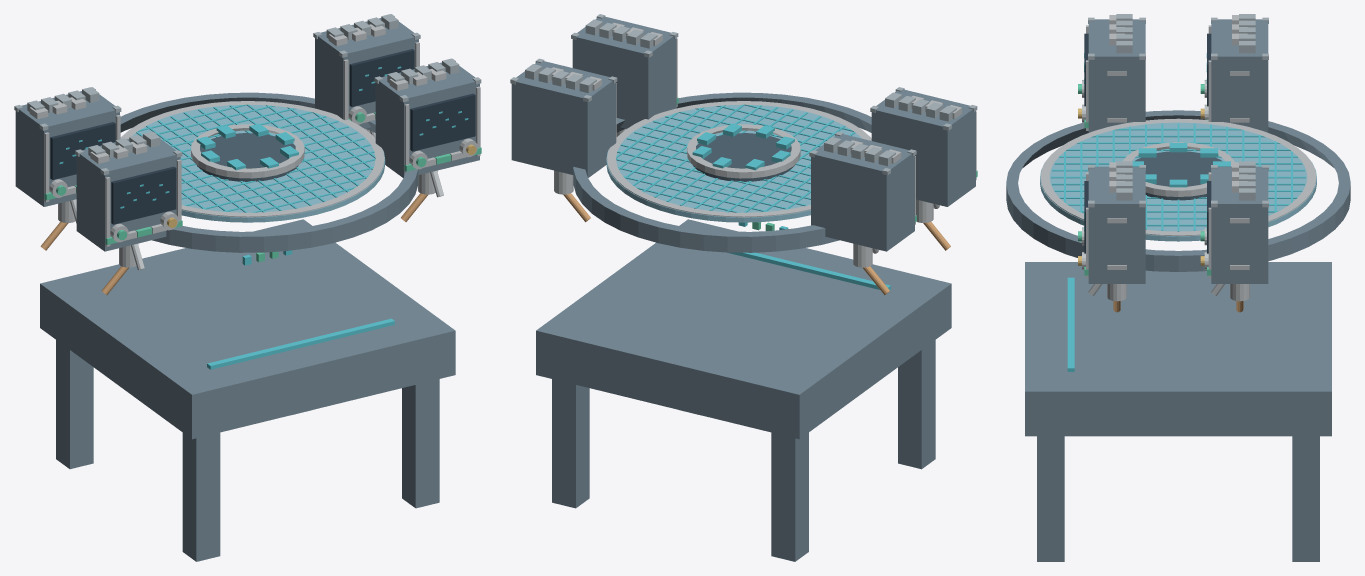
Rendered from 09_L78_OpticalWaferAlignmentStage.glb.
3 views of the same model, side by side, from view 1: azimuth 30°, elevation 25°; view 2: azimuth 150°, elevation 25°; view 3: azimuth 270°, elevation 25° (orthographic).
Parts seen in each view (by area): view 1: OpticalWaferAlignmentStage_Node_0000, OpticalWaferAlignmentStage_Node_0006, OpticalWaferAlignmentStage_Node_0038, OpticalWaferAlignmentStage_Node_0117, OpticalWaferAlignmentStage_Node_0156, OpticalWaferAlignmentStage_Node_0002, OpticalWaferAlignmentStage_Node_0039, OpticalWaferAlignmentStage_Node_0004, OpticalWaferAlignmentStage_Node_0001, OpticalWaferAlignmentStage_Node_0078, OpticalWaferAlignmentStage_Node_0007, OpticalWaferAlignmentStage_Node_0124 (+6 smaller); view 2: OpticalWaferAlignmentStage_Node_0000, OpticalWaferAlignmentStage_Node_0006, OpticalWaferAlignmentStage_Node_0039, OpticalWaferAlignmentStage_Node_0078, OpticalWaferAlignmentStage_Node_0038, OpticalWaferAlignmentStage_Node_0117, OpticalWaferAlignmentStage_Node_0156, OpticalWaferAlignmentStage_Node_0001, OpticalWaferAlignmentStage_Node_0003, OpticalWaferAlignmentStage_Node_0002, OpticalWaferAlignmentStage_Node_0007, OpticalWaferAlignmentStage_Node_0195 (+2 smaller); view 3: OpticalWaferAlignmentStage_Node_0000, OpticalWaferAlignmentStage_Node_0006, OpticalWaferAlignmentStage_Node_0038, OpticalWaferAlignmentStage_Node_0156, OpticalWaferAlignmentStage_Node_0078, OpticalWaferAlignmentStage_Node_0117, OpticalWaferAlignmentStage_Node_0039, OpticalWaferAlignmentStage_Node_0003, OpticalWaferAlignmentStage_Node_0004, OpticalWaferAlignmentStage_Node_0007, OpticalWaferAlignmentStage_Node_0195, OpticalWaferAlignmentStage_Node_0196 (+2 smaller).
Boxes of the visible parts, <box> form: OpticalWaferAlignmentStage_Node_0000: <box>40,219,455,439</box>; OpticalWaferAlignmentStage_Node_0006: <box>132,104,385,222</box>; OpticalWaferAlignmentStage_Node_0038: <box>120,92,418,252</box>; OpticalWaferAlignmentStage_Node_0117: <box>76,135,180,251</box>; OpticalWaferAlignmentStage_Node_0156: <box>375,62,479,177</box>; OpticalWaferAlignmentStage_Node_0002: <box>182,432,220,561</box>; OpticalWaferAlignmentStage_Node_0039: <box>15,91,119,206</box>; OpticalWaferAlignmentStage_Node_0004: <box>402,379,439,508</box>; OpticalWaferAlignmentStage_Node_0001: <box>56,340,93,469</box>; OpticalWaferAlignmentStage_Node_0078: <box>315,18,418,128</box>; OpticalWaferAlignmentStage_Node_0007: <box>120,101,384,217</box>; OpticalWaferAlignmentStage_Node_0124: <box>111,166,176,224</box>; OpticalWaferAlignmentStage_Node_0000: <box>536,219,951,439</box>; OpticalWaferAlignmentStage_Node_0006: <box>606,104,861,222</box>; OpticalWaferAlignmentStage_Node_0039: <box>811,134,914,251</box>; OpticalWaferAlignmentStage_Node_0078: <box>511,61,615,177</box>; OpticalWaferAlignmentStage_Node_0038: <box>573,92,871,252</box>; OpticalWaferAlignmentStage_Node_0117: <box>871,89,975,206</box>; OpticalWaferAlignmentStage_Node_0156: <box>572,16,676,128</box>; OpticalWaferAlignmentStage_Node_0001: <box>771,432,808,561</box>; OpticalWaferAlignmentStage_Node_0003: <box>552,379,589,508</box>; OpticalWaferAlignmentStage_Node_0002: <box>898,340,935,469</box>; OpticalWaferAlignmentStage_Node_0007: <box>607,101,871,217</box>; OpticalWaferAlignmentStage_Node_0195: <box>693,133,794,181</box>; OpticalWaferAlignmentStage_Node_0000: <box>1025,262,1331,436</box>; OpticalWaferAlignmentStage_Node_0006: <box>1040,122,1316,241</box>; OpticalWaferAlignmentStage_Node_0038: <box>1006,110,1350,271</box>; OpticalWaferAlignmentStage_Node_0156: <box>1088,166,1145,283</box>; OpticalWaferAlignmentStage_Node_0078: <box>1211,166,1268,283</box>; OpticalWaferAlignmentStage_Node_0117: <box>1088,19,1145,132</box>; OpticalWaferAlignmentStage_Node_0039: <box>1211,19,1268,132</box>; OpticalWaferAlignmentStage_Node_0003: <box>1292,436,1319,561</box>; OpticalWaferAlignmentStage_Node_0004: <box>1037,436,1064,561</box>; OpticalWaferAlignmentStage_Node_0007: <box>1040,118,1316,236</box>; OpticalWaferAlignmentStage_Node_0195: <box>1134,151,1222,200</box>; OpticalWaferAlignmentStage_Node_0196: <box>1123,142,1234,196</box>.
Bounding box in the file's own units: 2.22 × 2.22 × 1.74.
